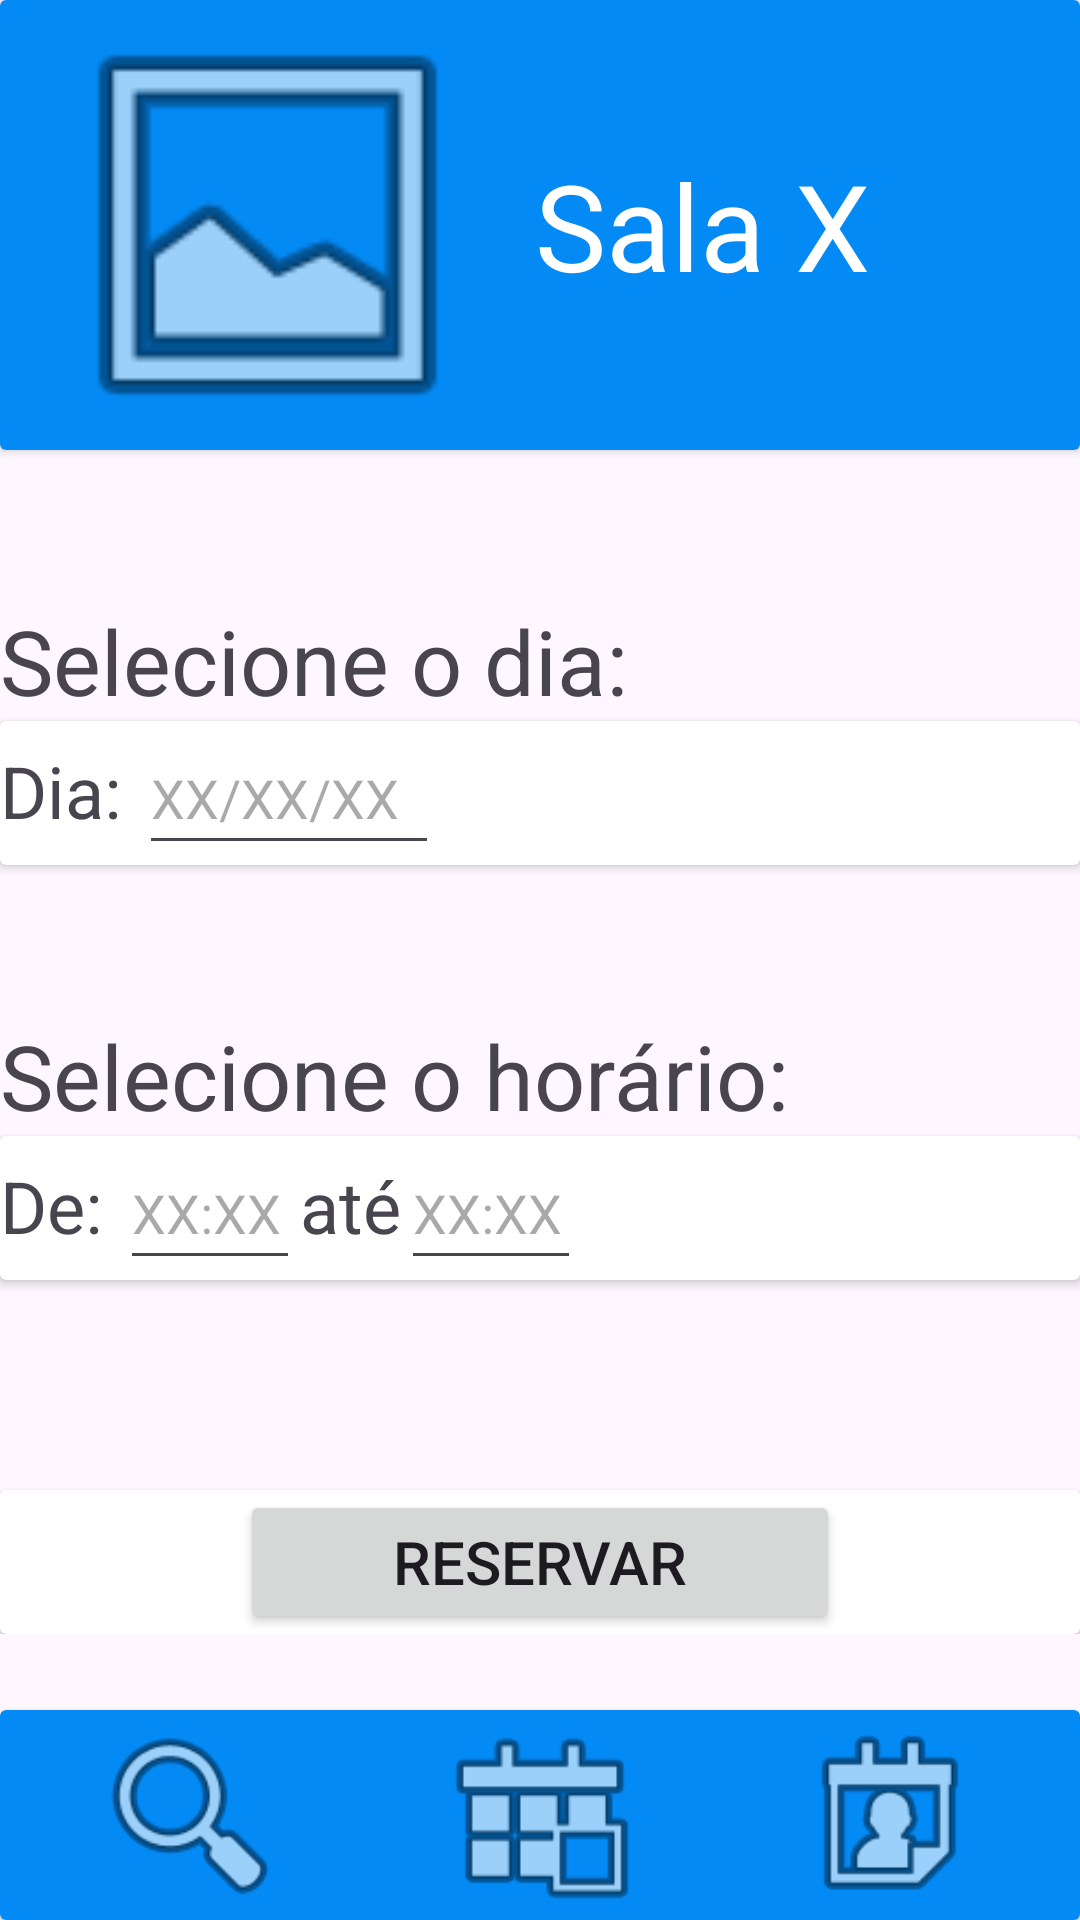

Icons on this 1080*1920 Android screen, each with the point to tap as (x=x, y=y):
search: (x=190, y=1816)
